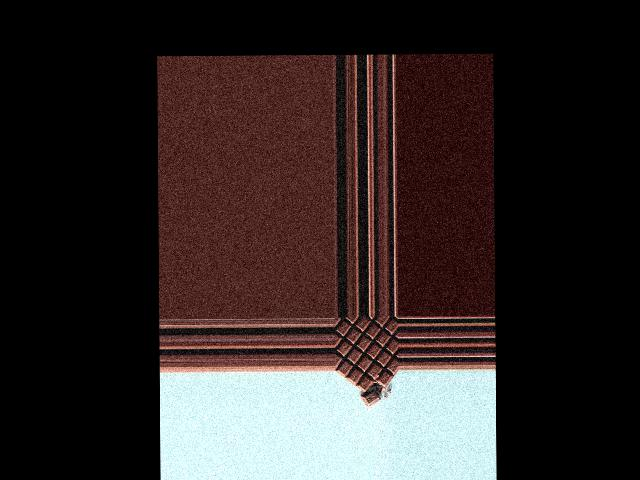chocolate: (337, 315, 397, 397)
